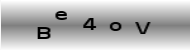4: (81, 17, 97, 31)
B: (35, 25, 51, 40)
V: (133, 20, 151, 35)
e: (54, 9, 67, 21)
o: (108, 21, 122, 32)
